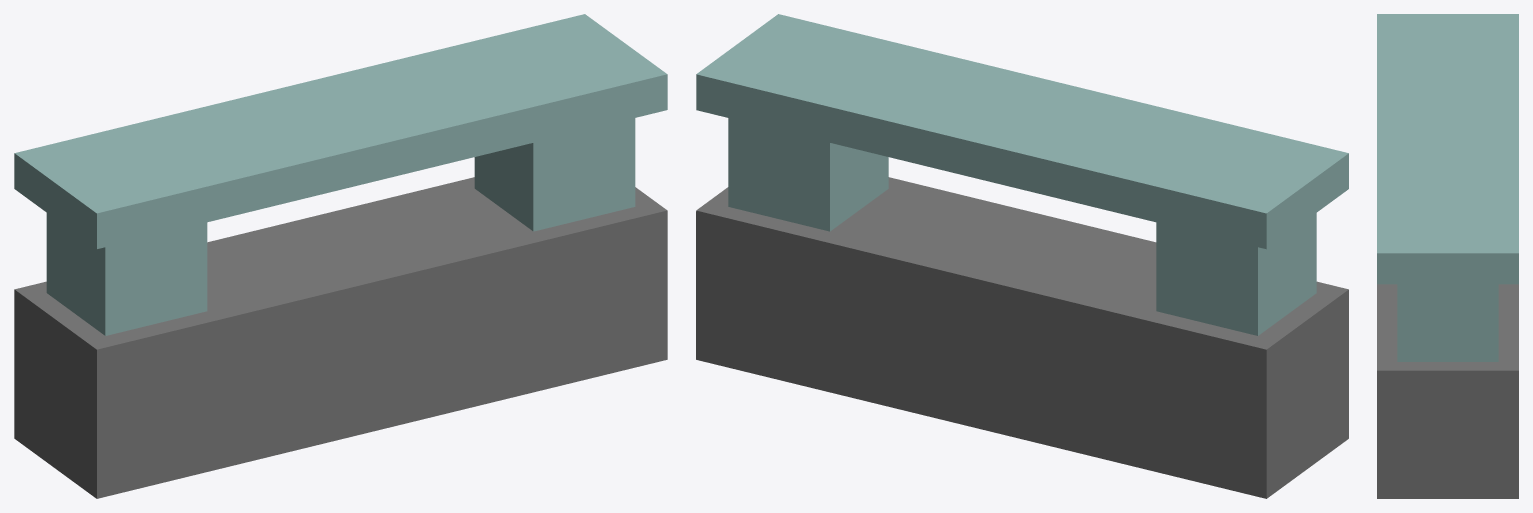
The picture shows the model from 3 angles, left to right: view 1: azimuth 30°, elevation 25°; view 2: azimuth 150°, elevation 25°; view 3: azimuth 270°, elevation 25°; orthographic projection. The views are drawn at different scales.
Parts seen in each view (by area): view 1: Object002; view 2: Object002; view 3: Object002.
Part boxes in pixels (bbox=[...]): Object002: bbox=[14, 14, 667, 498]; Object002: bbox=[696, 14, 1348, 498]; Object002: bbox=[1377, 14, 1518, 498].
Bounding box in the file's own units: 400 × 191 × 100.
